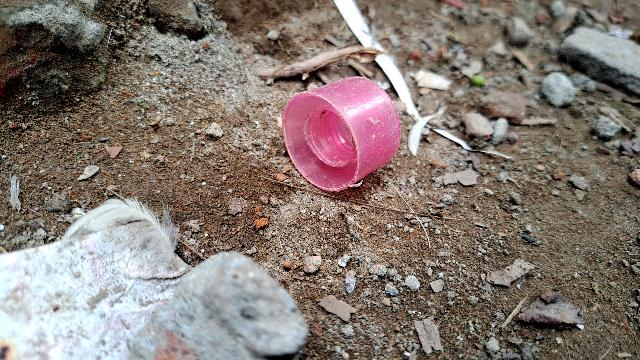hardplastic: (264, 61, 418, 213)
